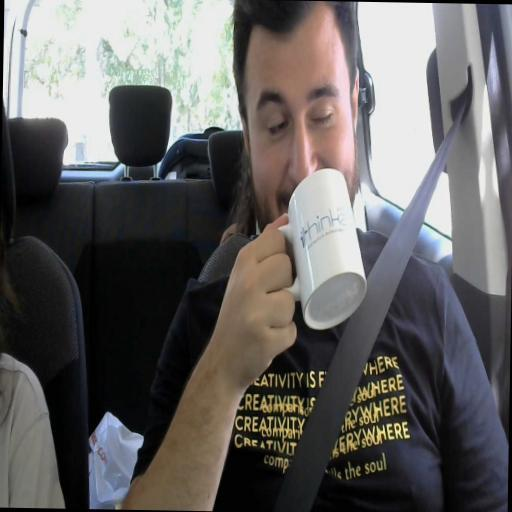Drinking: (234, 6, 366, 331)
